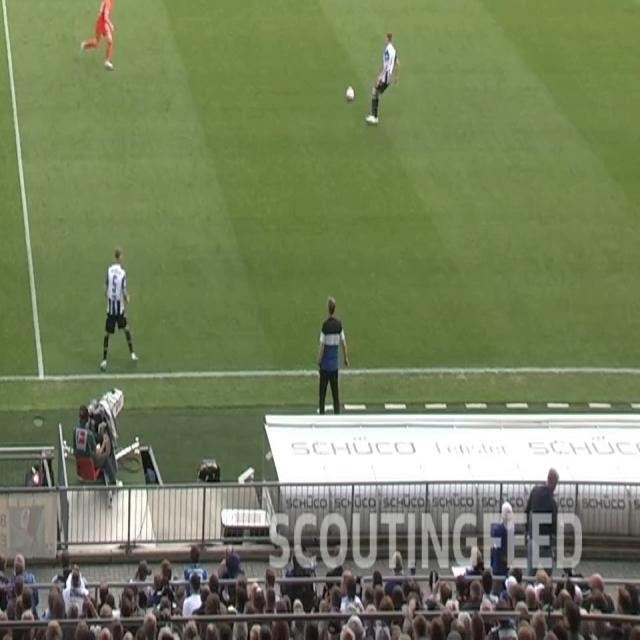ball: (346, 84, 355, 102)
